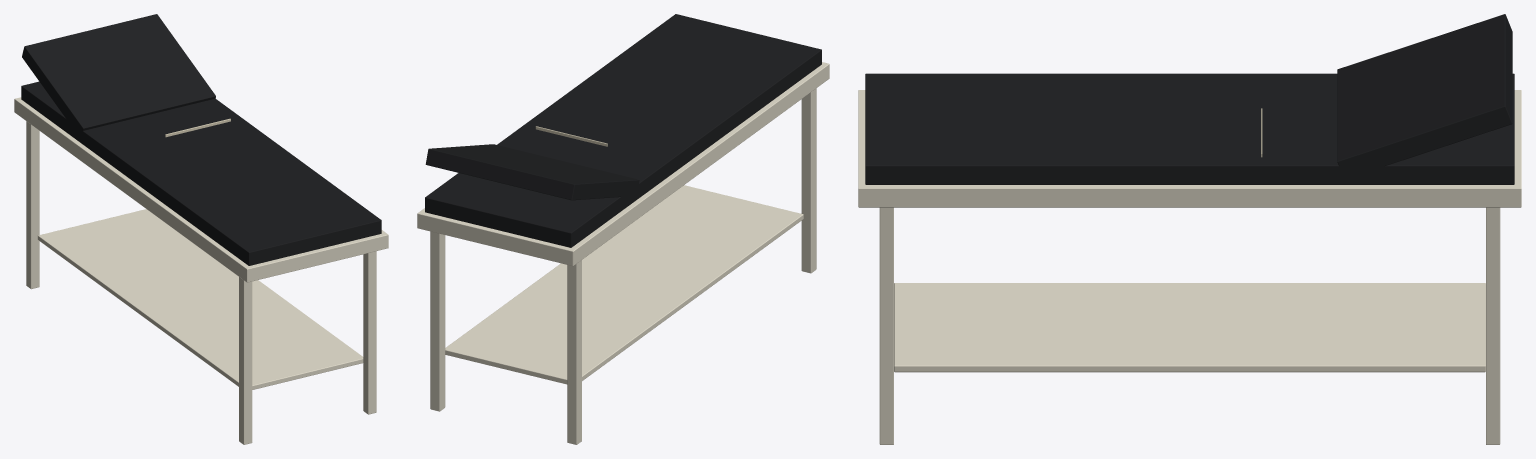
The model's file is PROP_Table_Exam_Historic.glb.
3 views of the same model, side by side, from view 1: azimuth 30°, elevation 25°; view 2: azimuth 150°, elevation 25°; view 3: azimuth 270°, elevation 25° (orthographic). The views are drawn at different scales.
Visible parts, largest first — view 1: PROP_Table_Exam_Historic_Mesh; view 2: PROP_Table_Exam_Historic_Mesh; view 3: PROP_Table_Exam_Historic_Mesh.
Part boxes in pixels (<box>): PROP_Table_Exam_Historic_Mesh: <box>14,14,388,444</box>; PROP_Table_Exam_Historic_Mesh: <box>417,14,829,444</box>; PROP_Table_Exam_Historic_Mesh: <box>858,14,1521,444</box>.
Size of what is drawn, in the model's own units: 0.65 by 1.04 by 1.85.
